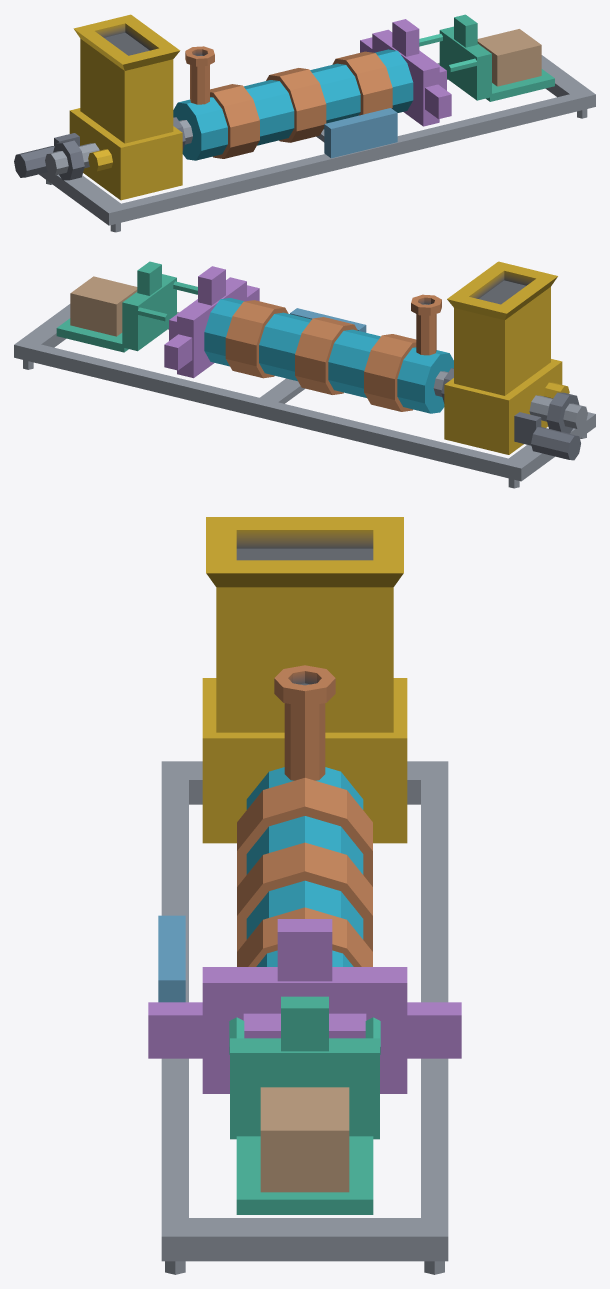
The model's file is architecture.gltf.
3 renders of one model, top to bottom at view 1: azimuth 30°, elevation 25°; view 2: azimuth 150°, elevation 25°; view 3: azimuth 270°, elevation 25°, orthographic. The views are drawn at different scales.
Visible parts, largest first — view 1: SYS-BCA-STAGE-2; view 2: SYS-BCA-STAGE-2; view 3: SYS-BCA-STAGE-2.
Boxes of the visible parts, x1,y1,x2,y2 form: SYS-BCA-STAGE-2: (14,14,595,232); SYS-BCA-STAGE-2: (14,261,595,488); SYS-BCA-STAGE-2: (148,517,461,1274).
Bounding box in the file's own units: 353 × 101 × 92.
